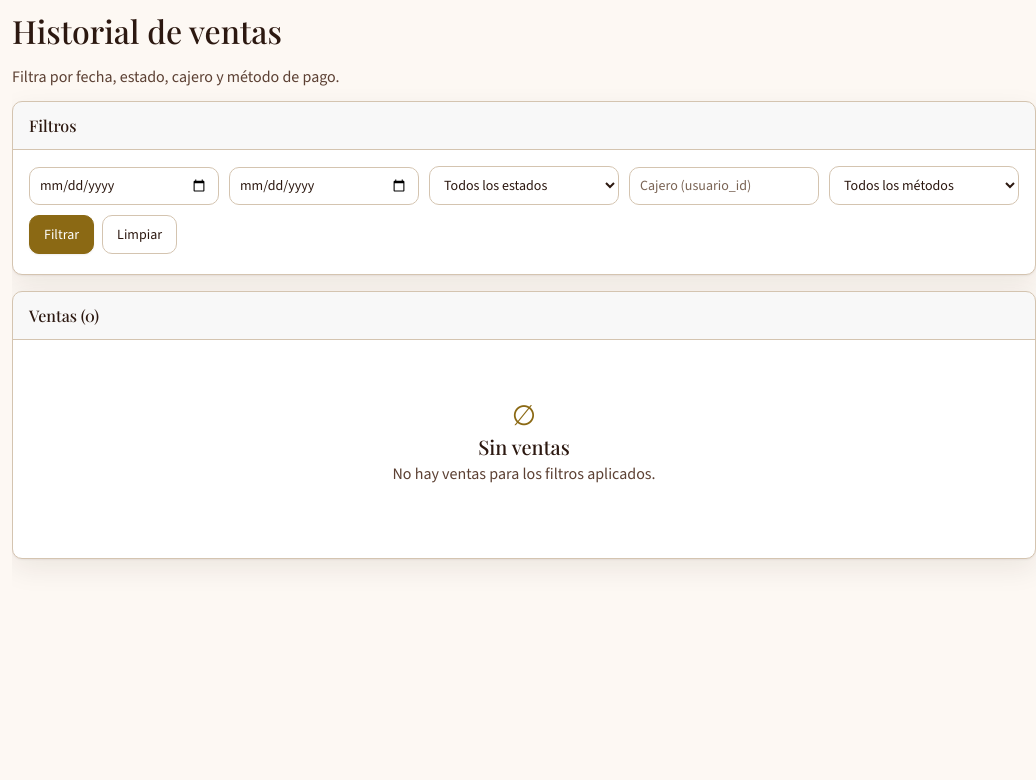
Scenario: HistorialVentas (HU-14) › muestra error humano si el backend rechaza el filtro
expect the heading "Sin ventas" is shown: met, box x1=478 y1=433 x2=570 y2=460
Click the button "Filtrar".
click(62, 234)  # box x1=29 y1=215 x2=94 y2=254
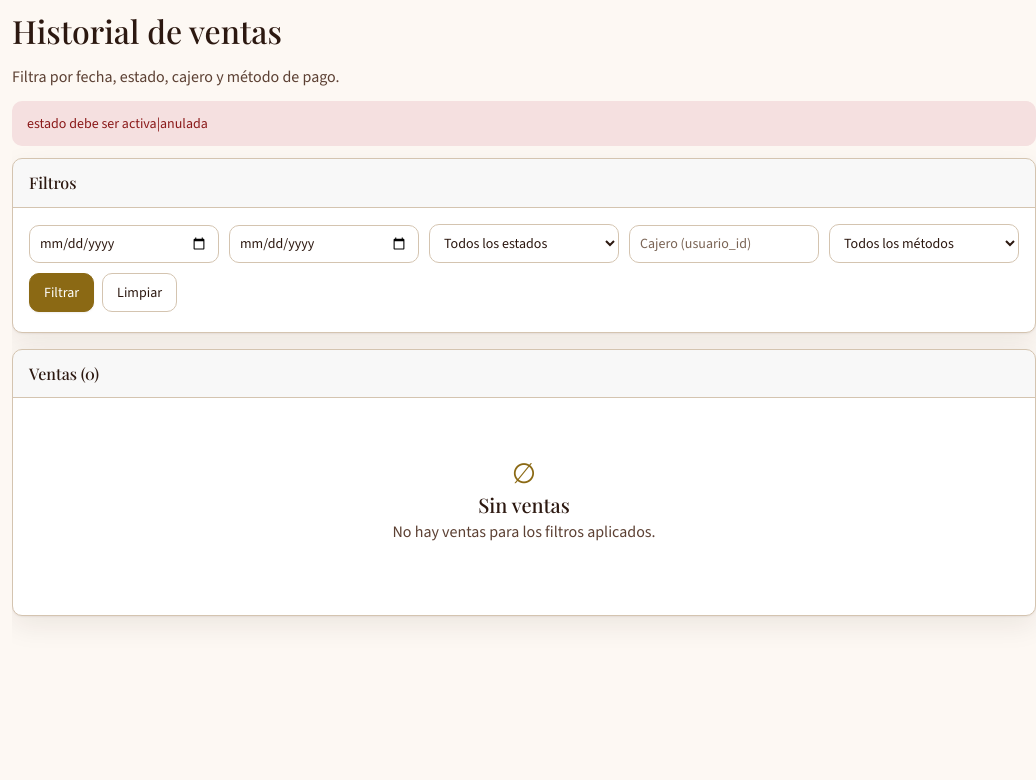
expect the text "estado debe ser activa|anulada" is shown: met, box x1=27 y1=114 x2=208 y2=133
